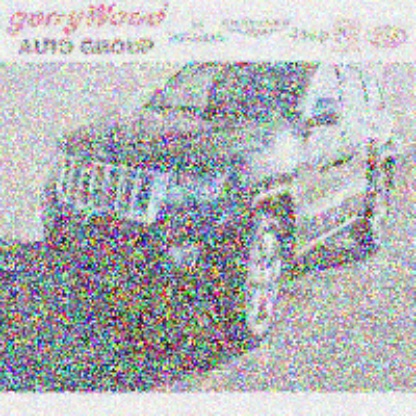Vehicle: (42, 64, 395, 354)
